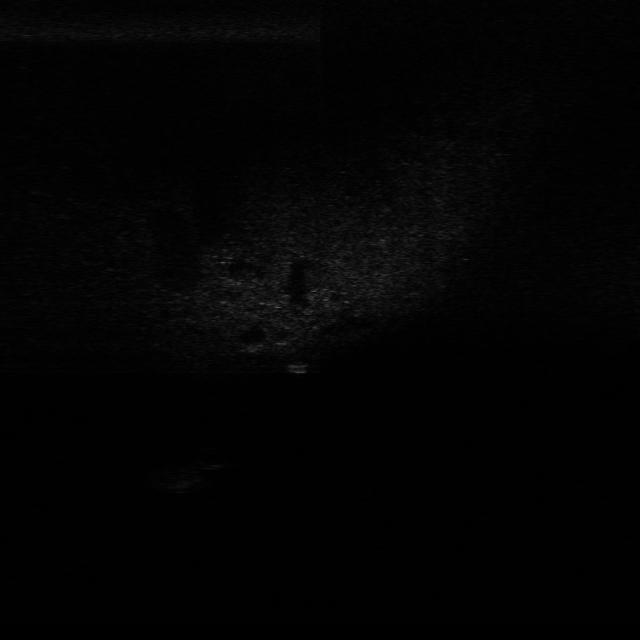ball: (193, 444, 234, 472)
circle cage: (144, 461, 214, 496)
cube: (280, 358, 316, 377)
